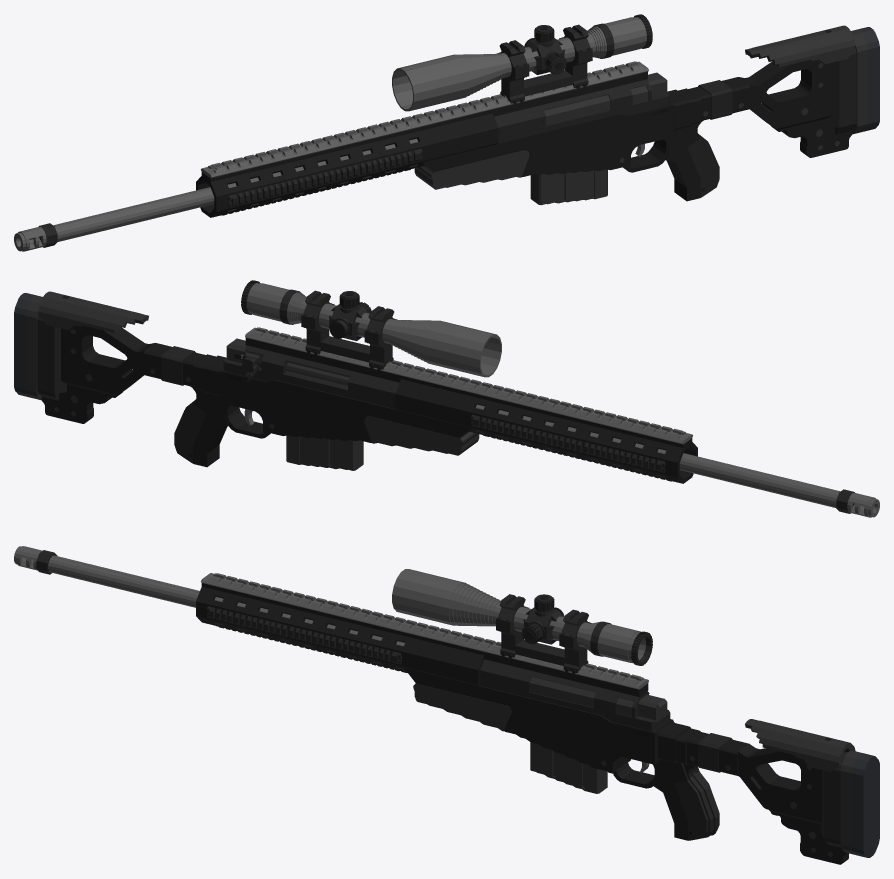
3 views of the same model, one above another, from view 1: azimuth 30°, elevation 25°; view 2: azimuth 150°, elevation 25°; view 3: azimuth 330°, elevation 25° (orthographic).
Parts seen in each view (by area): view 1: cube (×42), octagon, hexadecagon; view 2: cube (×40), hexadecagon (×2), octagon; view 3: cube (×28), octagon.
Boxes of the visible parts, x1,y1,x2,y2 form: cube (×42): (55,31,879,238); octagon: (522,70,573,96); hexadecagon: (411,73,463,93); cube (×40): (14,297,838,504); hexadecagon (×2): (430,331,484,359); octagon: (320,336,370,362); cube (×28): (49,557,879,864); octagon: (514,639,565,665).
Size of the model in its own units: 2.85 by 0.6473 by 0.1856.
11 materials, 10 textured.
